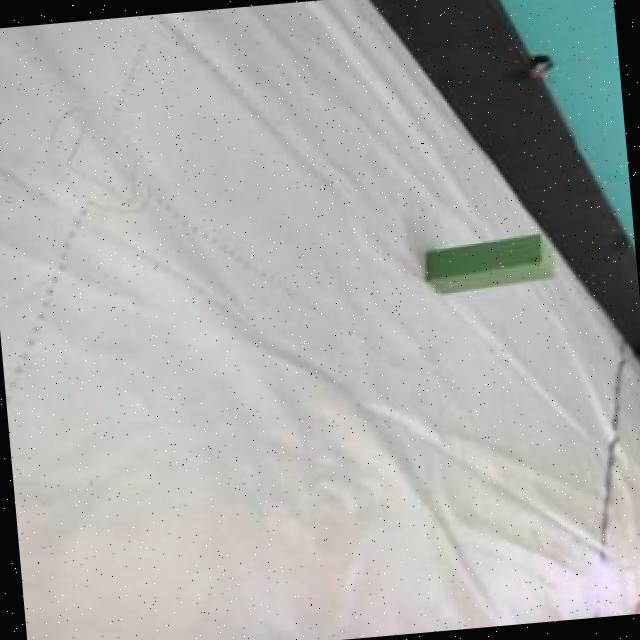greenbox: (421, 228, 558, 299)
